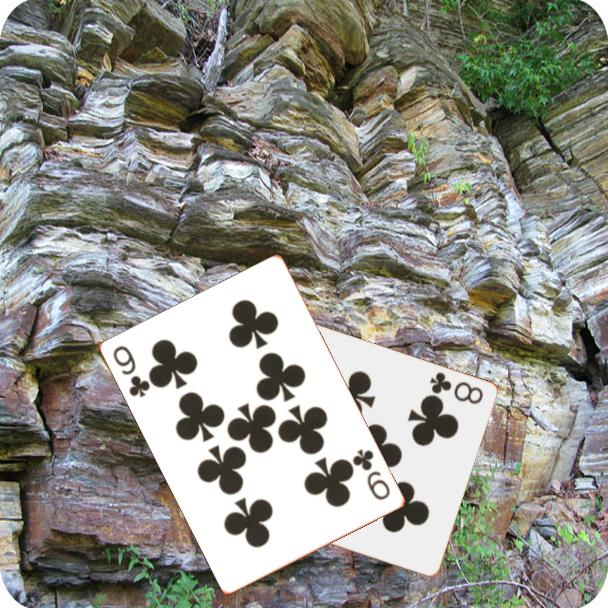c08: (426, 369, 486, 407)
c09: (110, 342, 154, 401), (349, 446, 393, 503)
